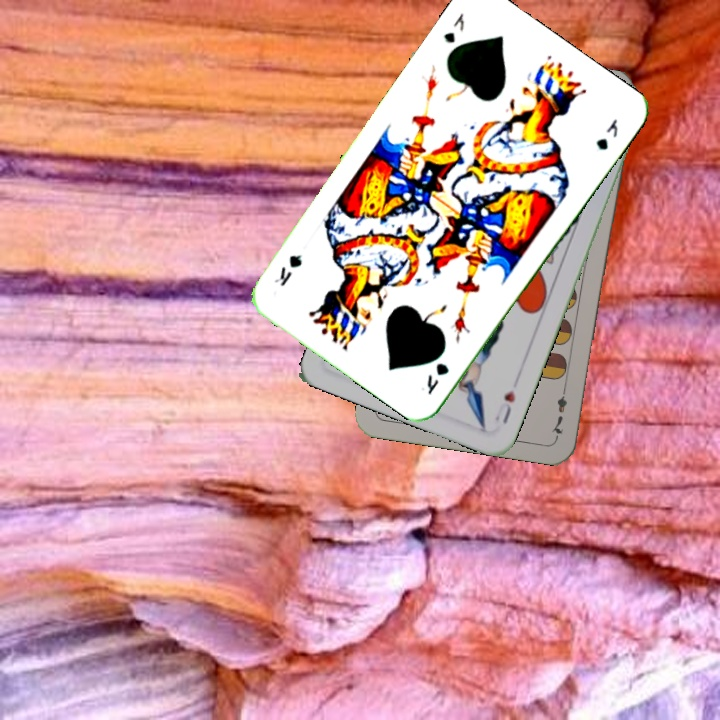E7: (548, 381, 570, 440)
GK: (422, 358, 452, 397), (439, 9, 468, 46)
HU: (490, 386, 518, 426)
